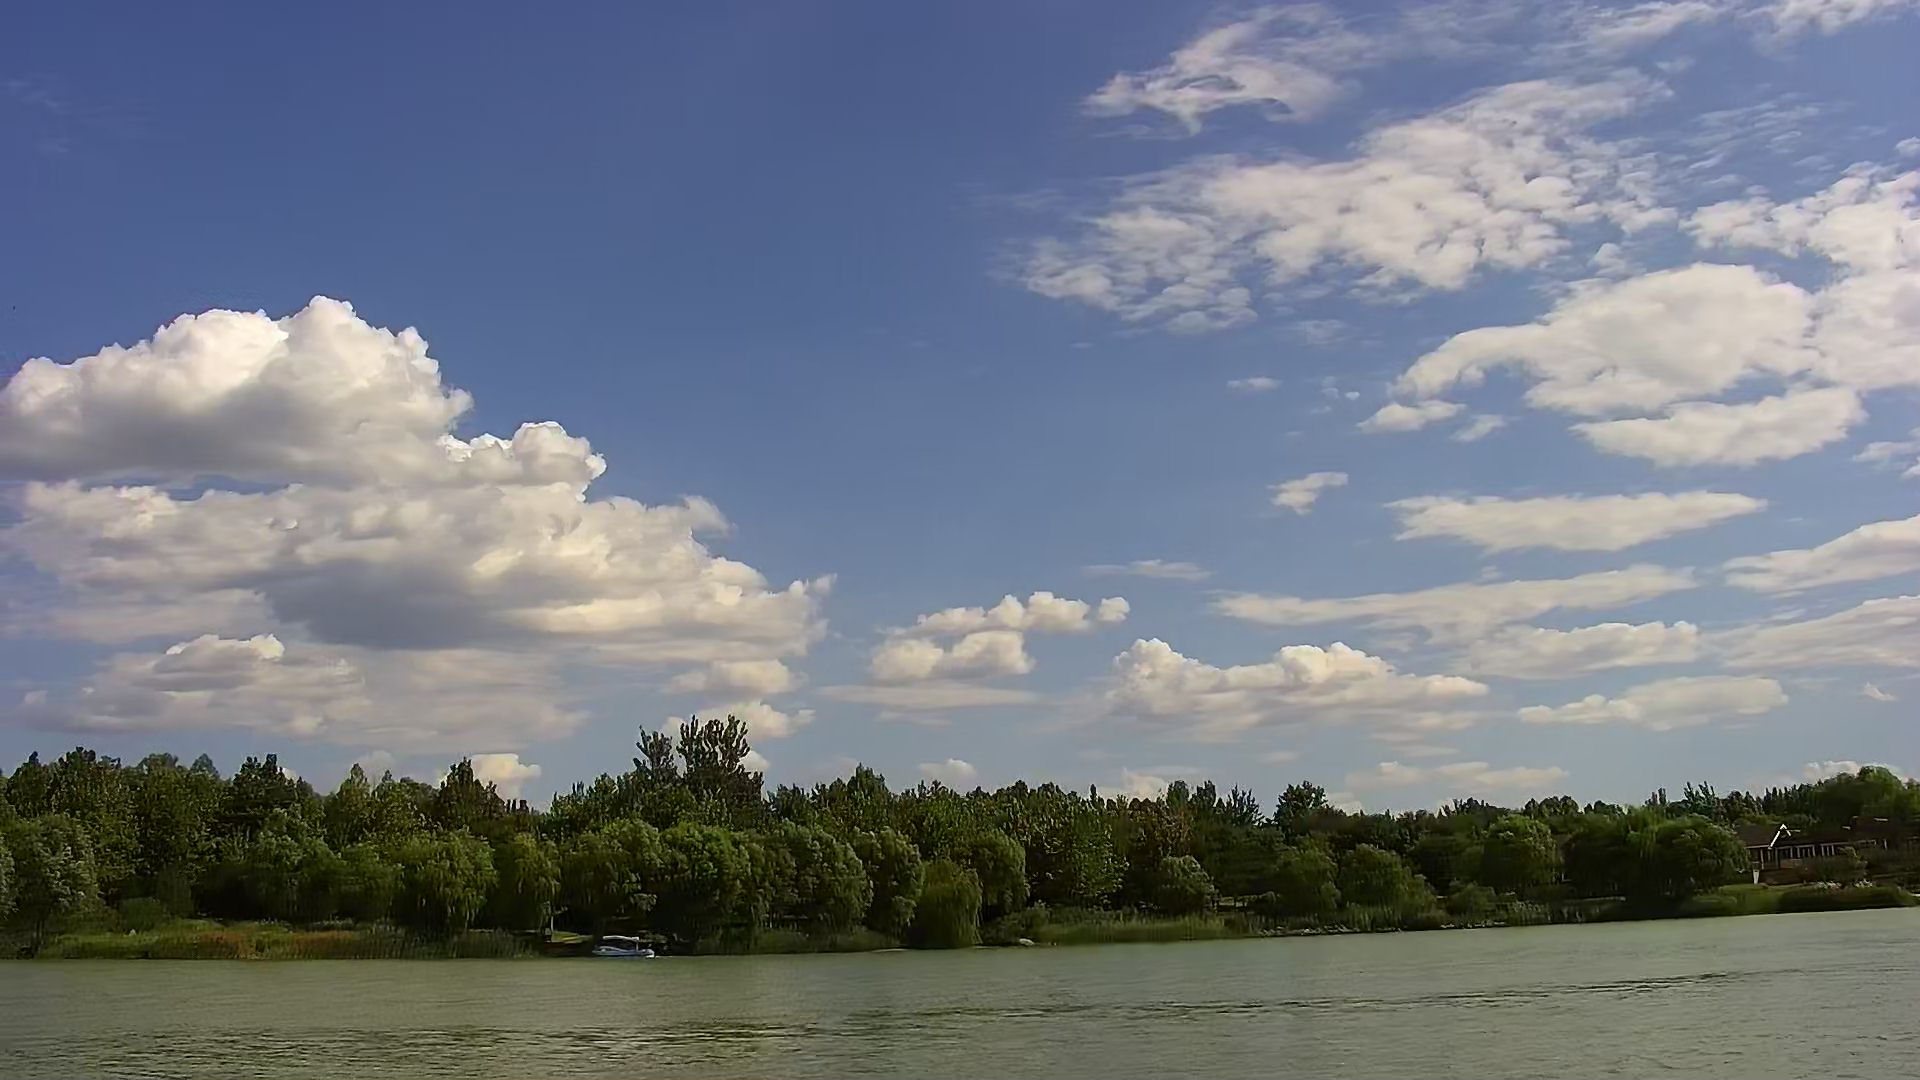boat: (585, 932, 657, 960)
